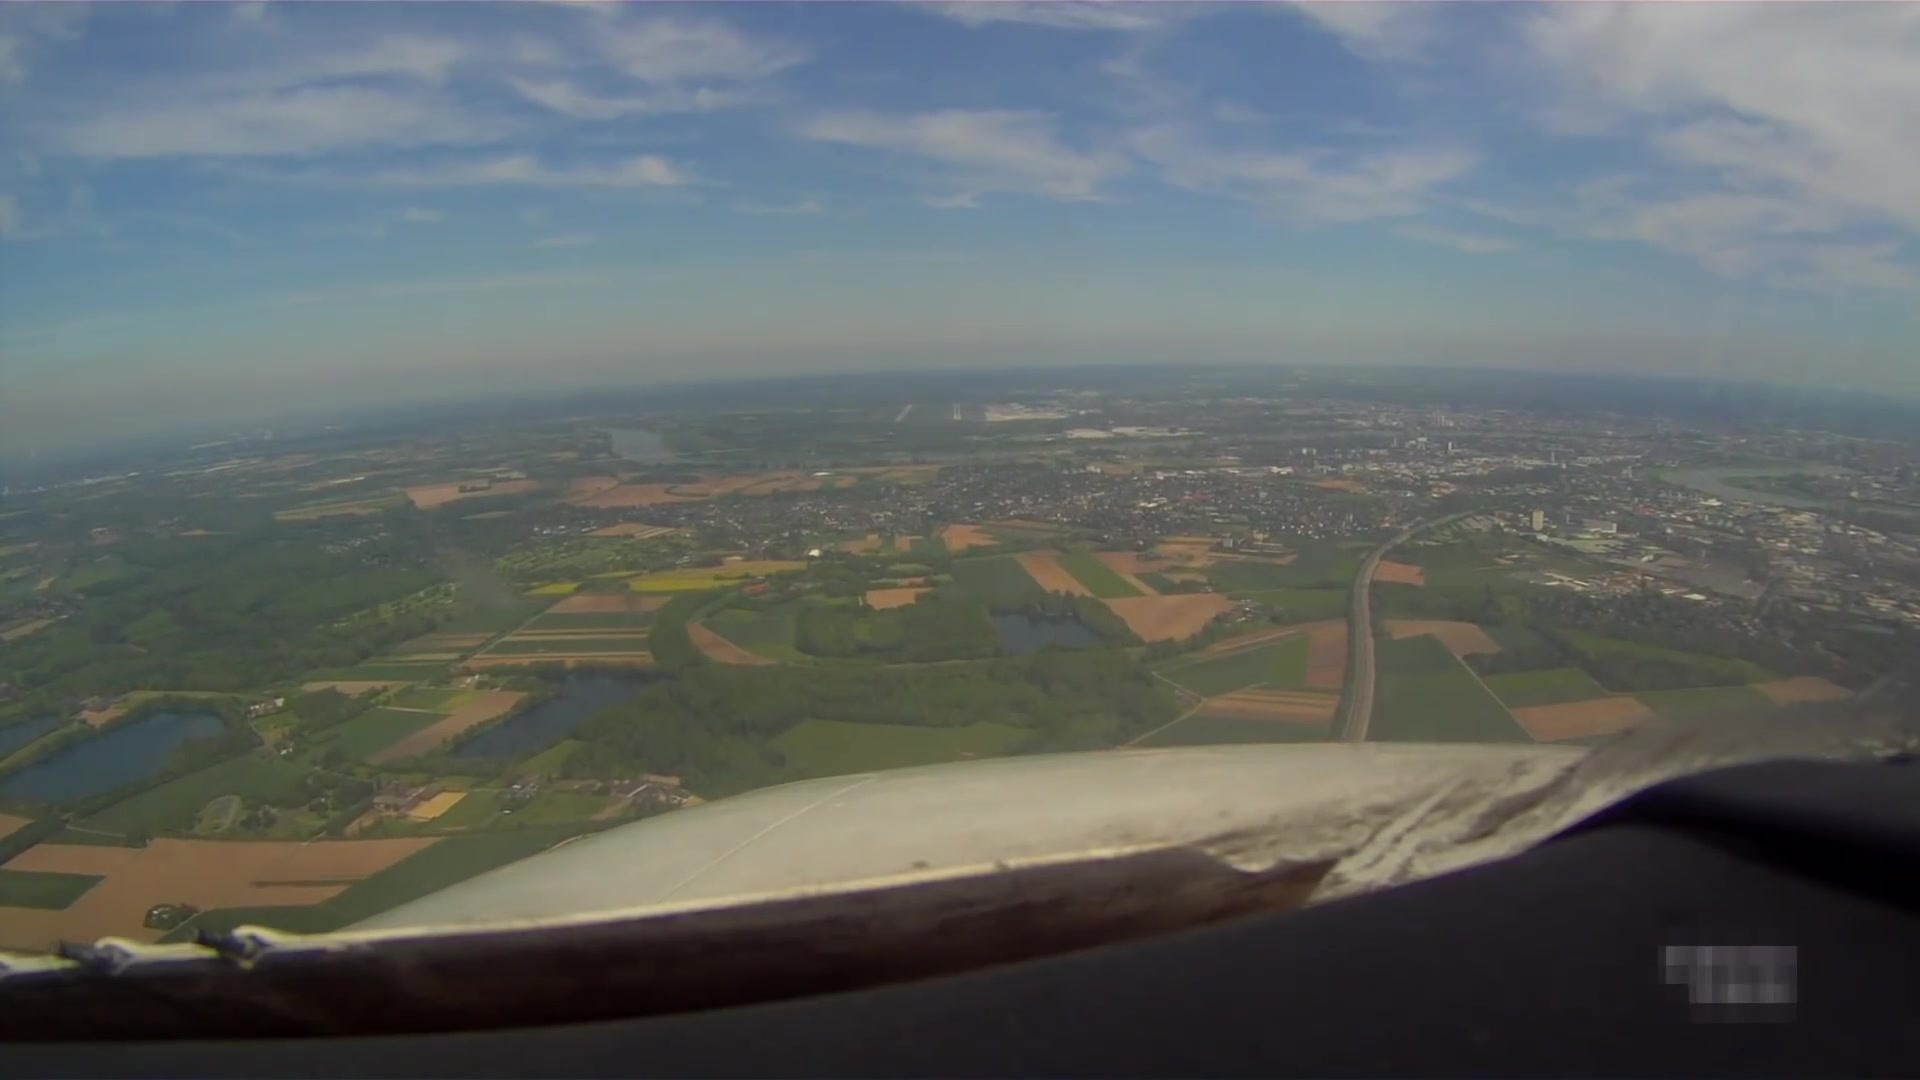runway: (894, 404, 913, 422), (953, 402, 961, 422)
